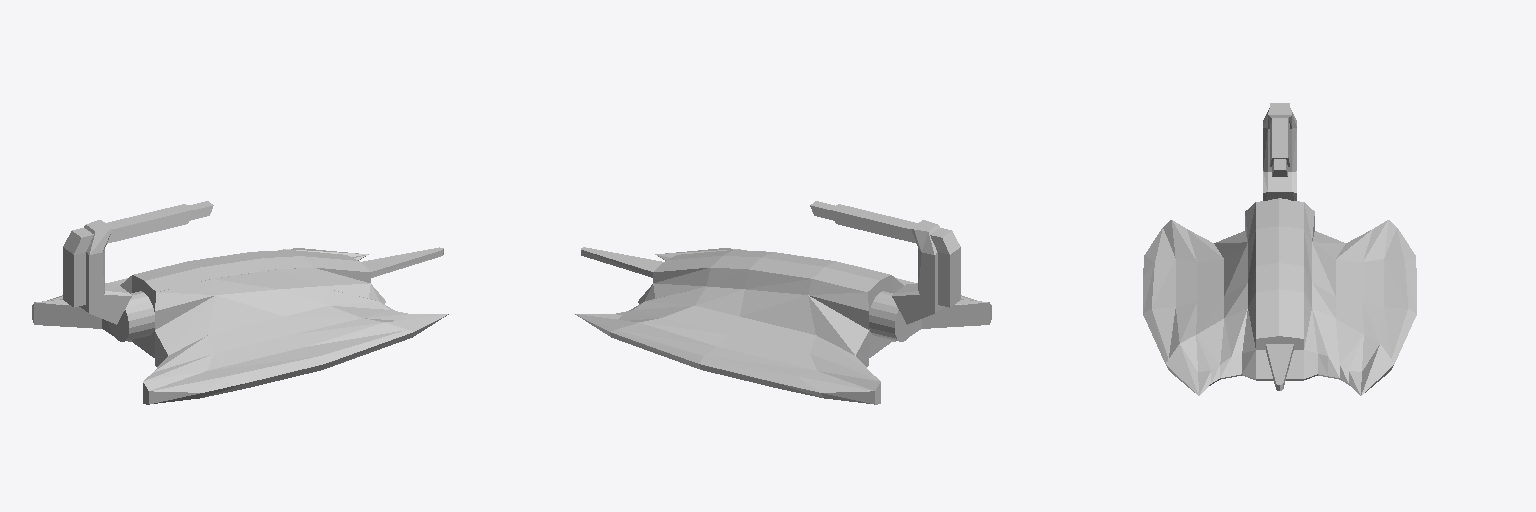
The model's file is nave_uvs.obj.
3 views of the same model, side by side, from view 1: azimuth 30°, elevation 25°; view 2: azimuth 150°, elevation 25°; view 3: azimuth 270°, elevation 25° (orthographic).
Visible parts, largest first — view 1: nave; view 2: nave; view 3: nave.
Boxes of the visible parts, box(x1,y1,x2,y2) form: nave: box(32, 201, 448, 404); nave: box(575, 201, 991, 404); nave: box(1143, 103, 1416, 395).
Bounding box in the file's own units: 8.99 × 3.13 × 5.7.